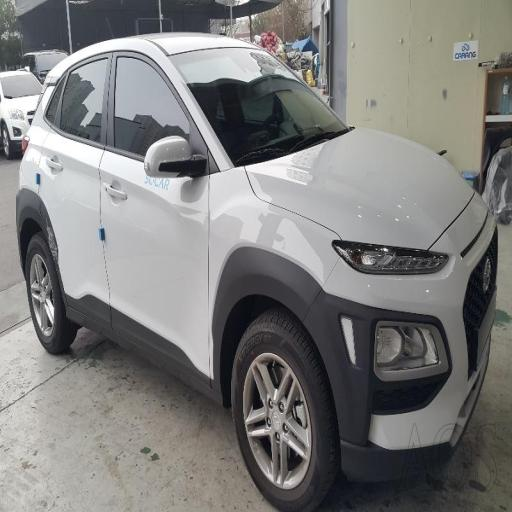dent: (117, 117, 368, 333)
